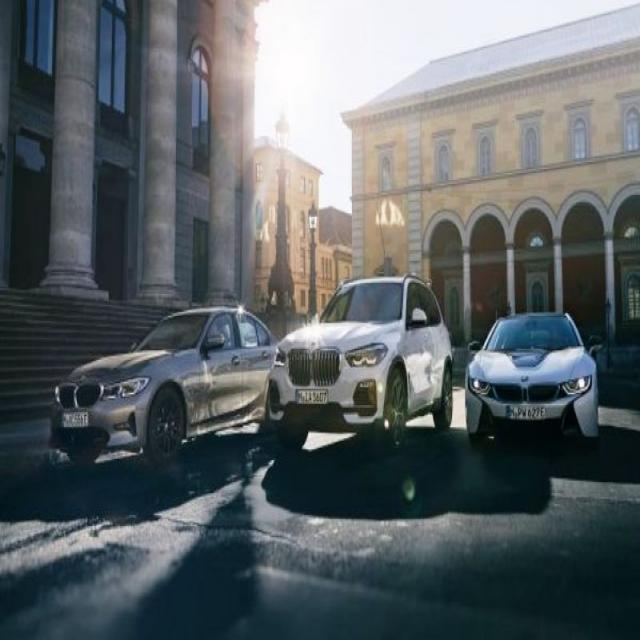car: (45, 317, 278, 464), (271, 276, 458, 456), (466, 304, 601, 453)
